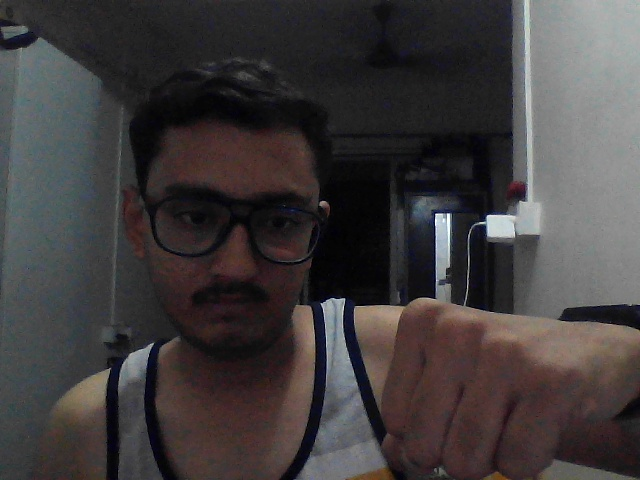Yes: (370, 257, 640, 480)
